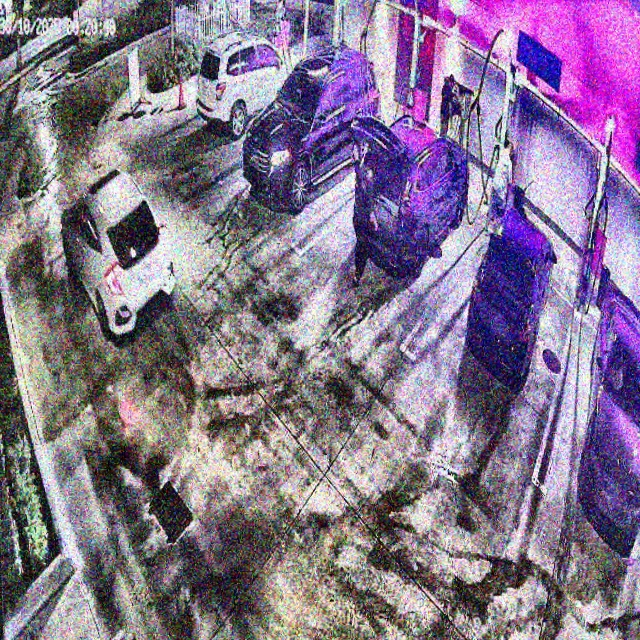Car: (241, 53, 379, 221), (353, 109, 467, 274), (66, 177, 177, 336), (466, 207, 557, 388)
